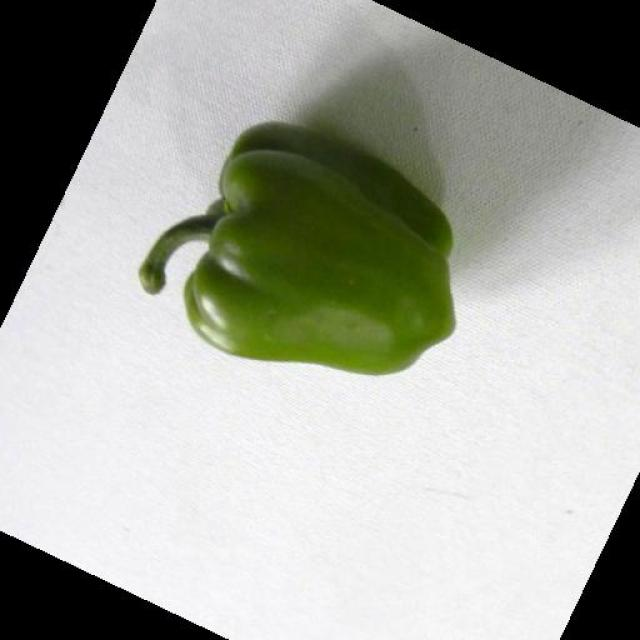Fresh_Capsicum: (149, 147, 484, 390)
